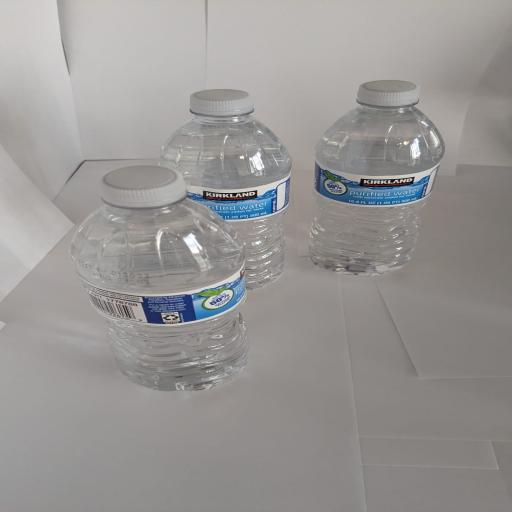waterbottle: (70, 167, 248, 390), (159, 90, 291, 289), (310, 81, 444, 275)
